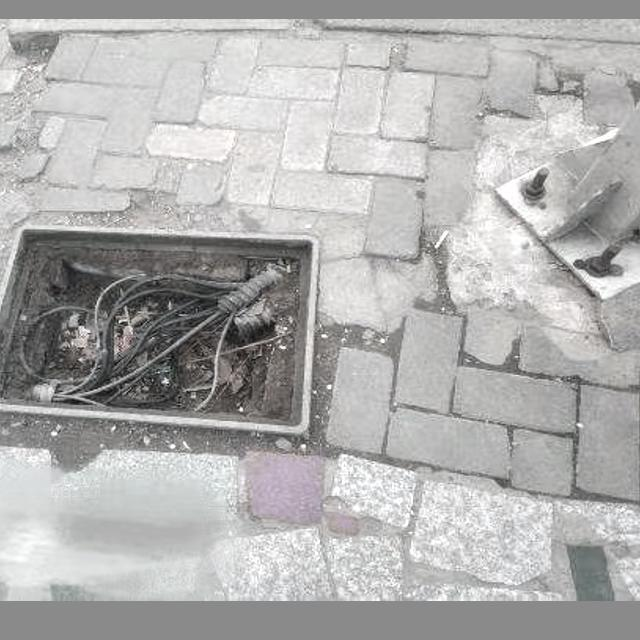lose: (0, 210, 346, 462)
